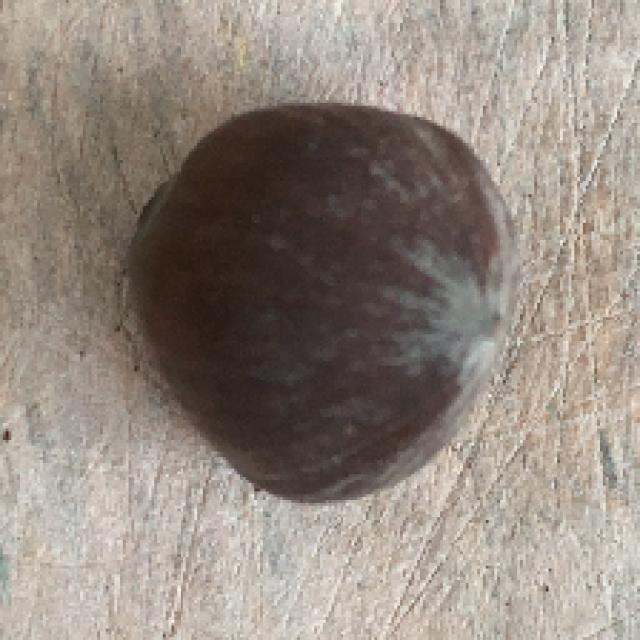qualityHazelnut: (119, 96, 523, 514)
